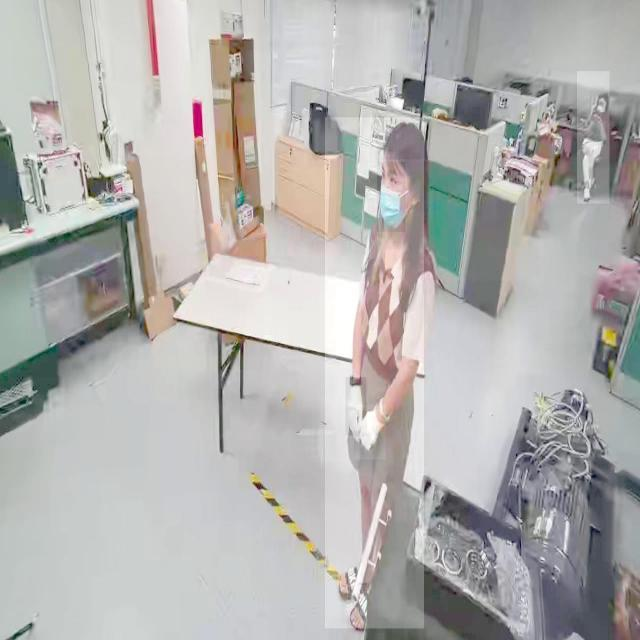gloves: (356, 404, 386, 460), (345, 376, 367, 436)
